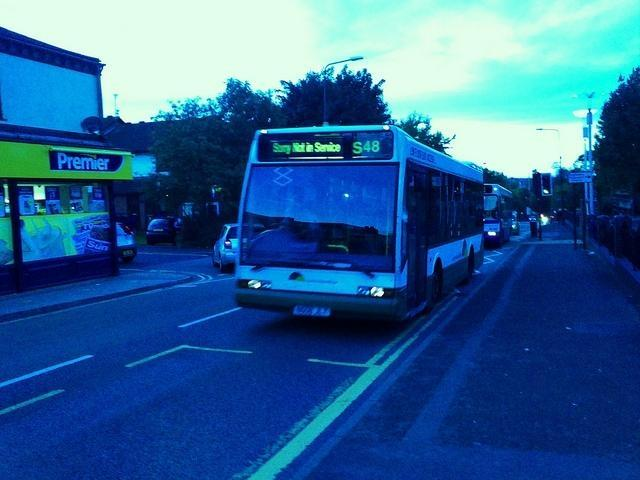bus: (235, 123, 484, 324), (484, 181, 514, 248)
car: (212, 223, 237, 273), (146, 216, 183, 246), (115, 222, 138, 264), (511, 214, 518, 236), (528, 216, 536, 220)
